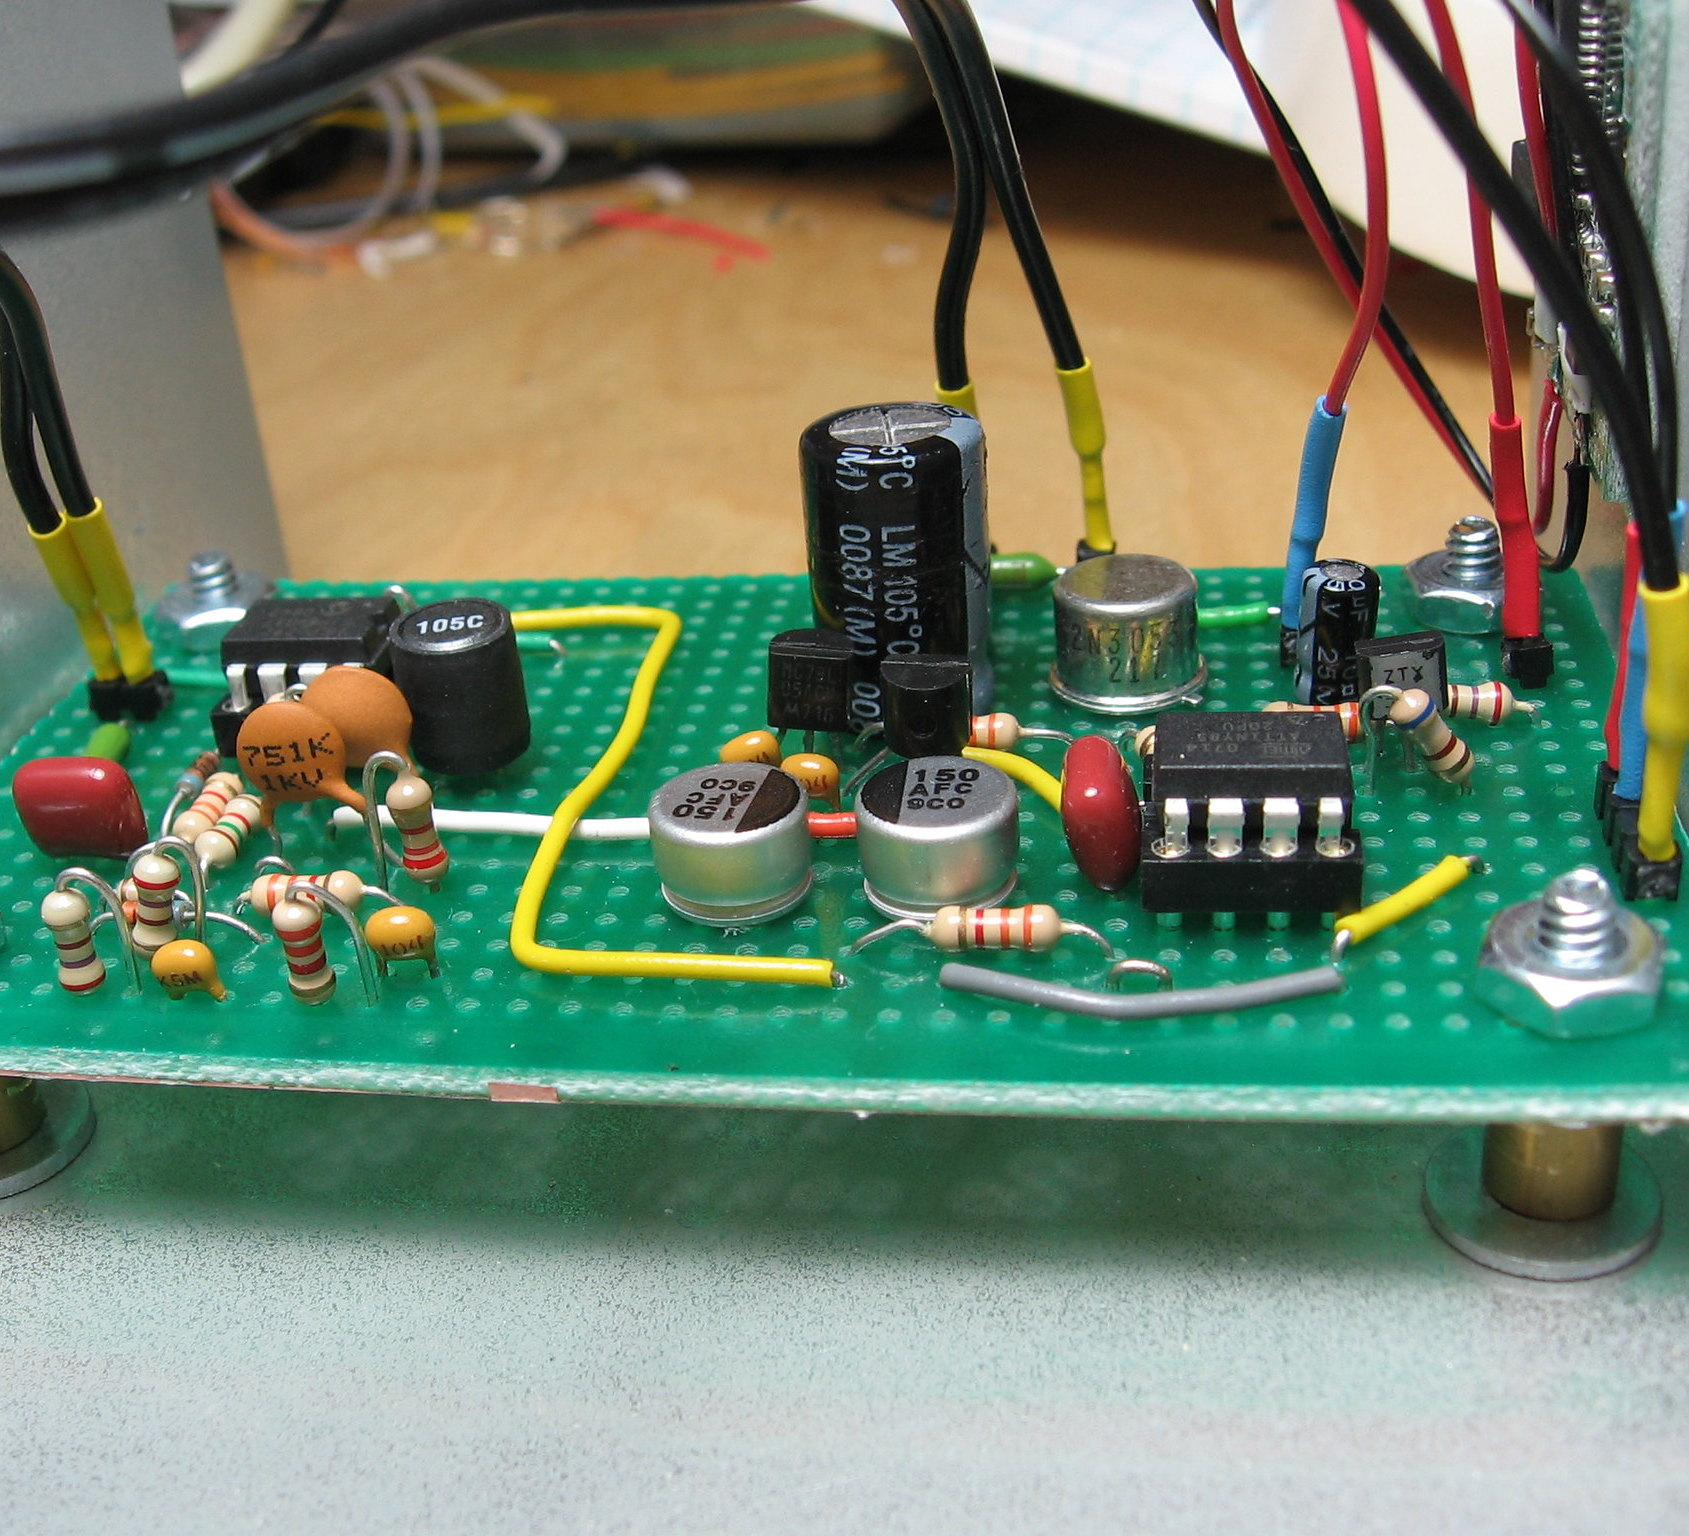Capacitor: (792, 399, 1003, 740), (1292, 555, 1384, 711)
Resistor: (1387, 686, 1480, 793), (32, 881, 113, 1000), (269, 896, 347, 1011), (921, 896, 1073, 953), (385, 774, 452, 886), (127, 849, 185, 970), (1259, 690, 1379, 746), (193, 790, 271, 872), (247, 871, 366, 918), (171, 769, 241, 847), (1443, 672, 1521, 728), (965, 711, 1028, 752)
